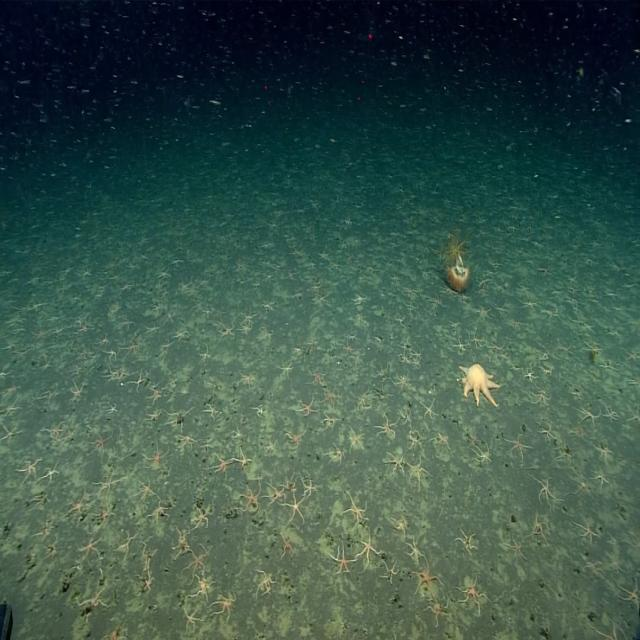brittle-stars: (455, 574, 483, 612), (92, 468, 126, 496), (414, 558, 440, 592), (182, 547, 208, 579), (532, 475, 557, 508), (356, 534, 380, 568), (236, 481, 262, 511), (344, 492, 367, 524), (331, 542, 354, 572), (425, 596, 448, 625), (285, 493, 306, 524), (211, 594, 237, 619), (94, 501, 116, 530), (618, 579, 640, 608), (574, 404, 600, 428), (17, 458, 41, 482), (143, 445, 168, 468), (182, 604, 202, 632), (79, 537, 102, 561), (86, 433, 112, 454), (507, 434, 531, 456), (456, 529, 477, 554), (135, 477, 155, 503), (576, 518, 596, 544), (408, 454, 424, 486), (192, 575, 211, 601), (531, 511, 548, 540), (569, 469, 587, 496), (0, 422, 22, 444), (44, 419, 65, 442), (375, 414, 396, 437), (255, 568, 272, 596), (384, 452, 405, 474), (66, 493, 86, 516), (379, 559, 398, 583), (265, 482, 286, 503), (41, 461, 61, 483), (594, 444, 614, 466), (40, 383, 59, 406), (192, 506, 210, 530), (406, 536, 422, 563), (347, 427, 365, 451), (174, 526, 190, 552), (538, 422, 556, 445), (506, 536, 524, 558), (326, 443, 344, 465), (288, 427, 306, 449), (321, 385, 339, 407), (297, 396, 317, 415), (150, 501, 167, 523), (593, 468, 610, 490), (472, 445, 491, 464), (212, 455, 232, 473), (532, 388, 550, 408), (69, 380, 85, 402), (234, 448, 252, 467), (393, 370, 410, 390), (239, 370, 255, 391), (322, 410, 338, 430), (178, 433, 197, 449), (163, 306, 177, 327), (280, 534, 293, 556), (487, 340, 504, 356), (421, 402, 438, 418), (102, 347, 120, 362), (468, 331, 483, 349), (434, 432, 449, 450), (308, 368, 323, 386), (603, 405, 617, 424), (398, 408, 412, 427), (204, 403, 220, 419), (149, 386, 164, 403), (130, 371, 144, 389), (302, 478, 316, 496), (519, 296, 537, 310), (358, 390, 370, 411), (492, 301, 508, 316), (144, 572, 156, 591), (453, 336, 468, 351), (428, 294, 443, 309), (126, 341, 139, 358), (477, 305, 491, 320), (279, 363, 293, 378), (146, 408, 162, 421), (523, 364, 535, 381), (266, 438, 278, 455), (242, 308, 256, 322), (158, 266, 172, 280), (468, 432, 480, 448), (144, 322, 160, 334), (239, 323, 252, 337), (252, 405, 266, 418), (174, 330, 189, 342), (34, 328, 48, 340), (352, 294, 368, 304), (344, 341, 354, 356), (412, 348, 423, 361), (216, 305, 227, 318), (518, 282, 529, 294), (108, 402, 118, 415), (400, 350, 409, 364)
